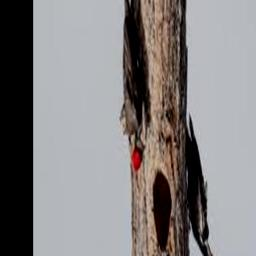Woodpecker: (186, 116, 218, 256), (122, 0, 147, 172)
